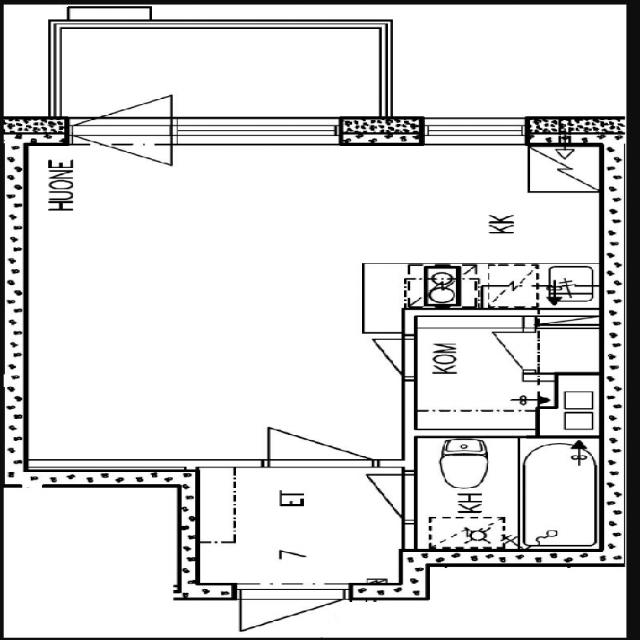door: (72, 117, 170, 205), (72, 56, 170, 144), (267, 394, 373, 466), (330, 474, 415, 520), (341, 339, 415, 377), (462, 332, 536, 369)
